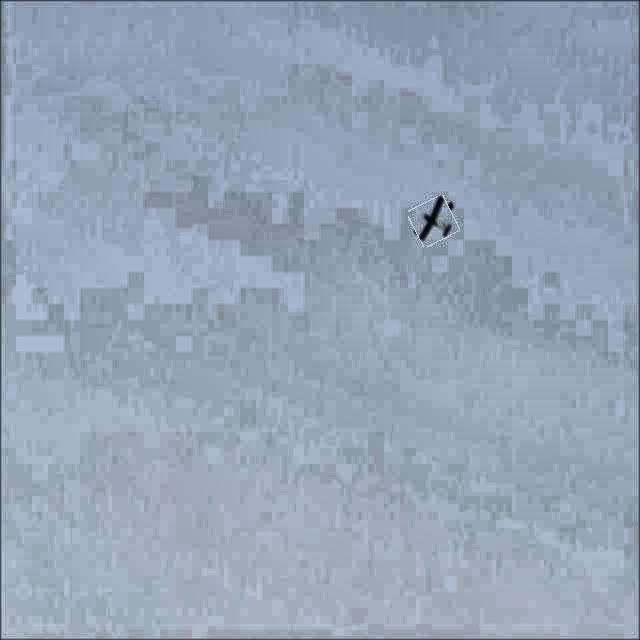iha: (403, 191, 462, 252)
